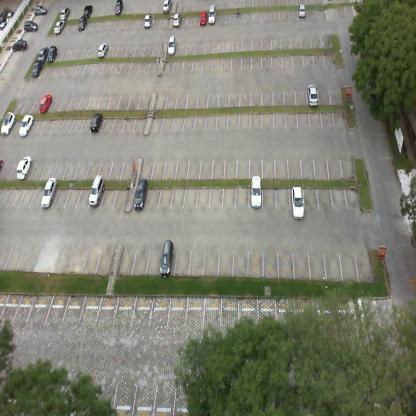car: (158, 237, 174, 278), (40, 176, 58, 209), (88, 173, 104, 207), (290, 184, 305, 220), (133, 176, 148, 210), (249, 172, 263, 208), (15, 154, 32, 182), (0, 110, 16, 136), (17, 114, 34, 136), (37, 94, 53, 115), (306, 82, 319, 107), (89, 111, 103, 133), (207, 1, 216, 26), (30, 60, 42, 78), (46, 46, 58, 64), (167, 33, 176, 56), (11, 39, 28, 51), (52, 20, 65, 34), (58, 5, 70, 20), (23, 20, 38, 32), (97, 42, 108, 58), (172, 10, 182, 27), (37, 46, 49, 60), (33, 3, 47, 15), (143, 12, 153, 28), (83, 3, 94, 17), (199, 8, 207, 26), (297, 4, 307, 18), (76, 16, 86, 30), (162, 0, 171, 15), (114, 0, 123, 15)
